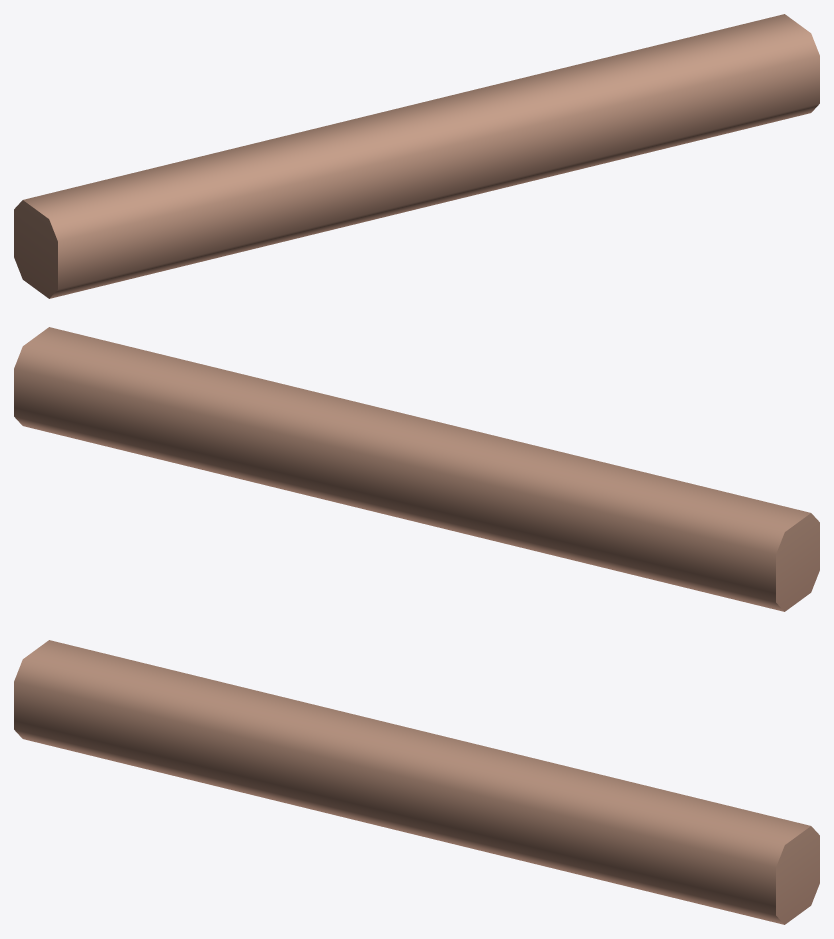
File: rod-rounded-thin.glb
3 views of the same model, one above another, from view 1: azimuth 30°, elevation 25°; view 2: azimuth 150°, elevation 25°; view 3: azimuth 330°, elevation 25° (orthographic).
Parts seen in each view (by area): view 1: rod-rounded-thin; view 2: rod-rounded-thin; view 3: rod-rounded-thin.
Part boxes in pixels (x1,y1,x2,y2): rod-rounded-thin: (14, 14, 819, 298); rod-rounded-thin: (14, 327, 819, 611); rod-rounded-thin: (14, 640, 819, 924).
Bounding box in the file's own units: 0.5 × 0.05 × 0.05.
